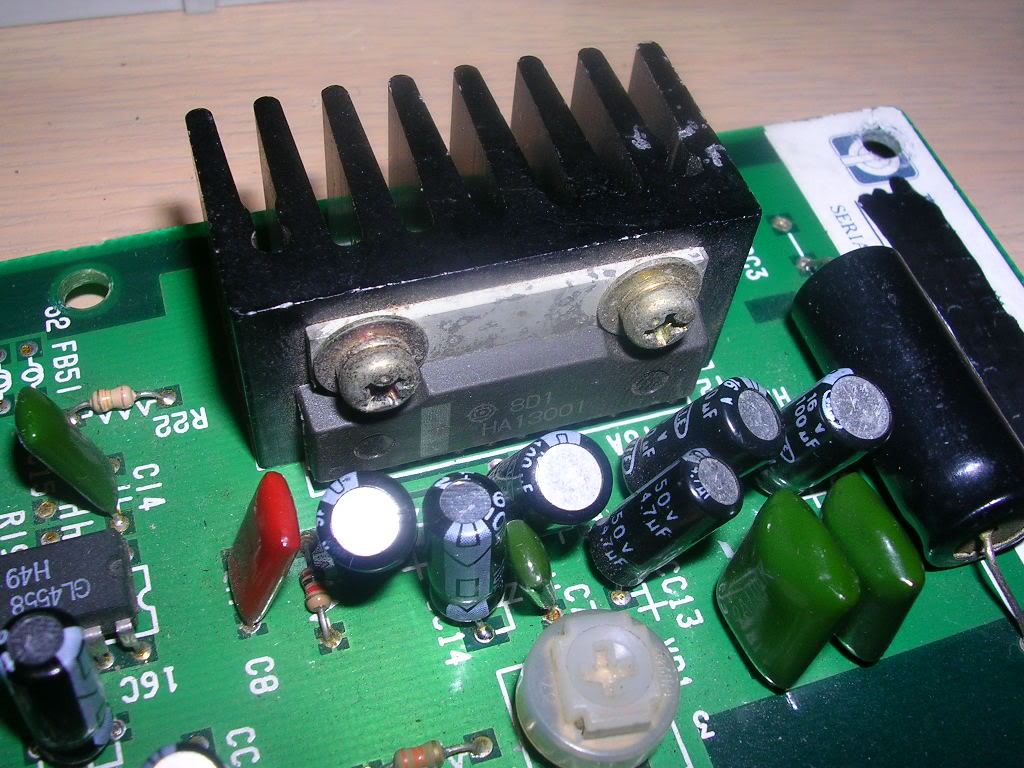capacitor: (790, 251, 1024, 575), (588, 447, 744, 587), (1, 605, 120, 767), (487, 430, 616, 536), (783, 368, 894, 488), (423, 472, 508, 623), (618, 378, 786, 452), (316, 468, 418, 571), (136, 743, 231, 767)
resistor: (298, 567, 331, 614), (393, 739, 446, 767), (88, 384, 137, 414)
